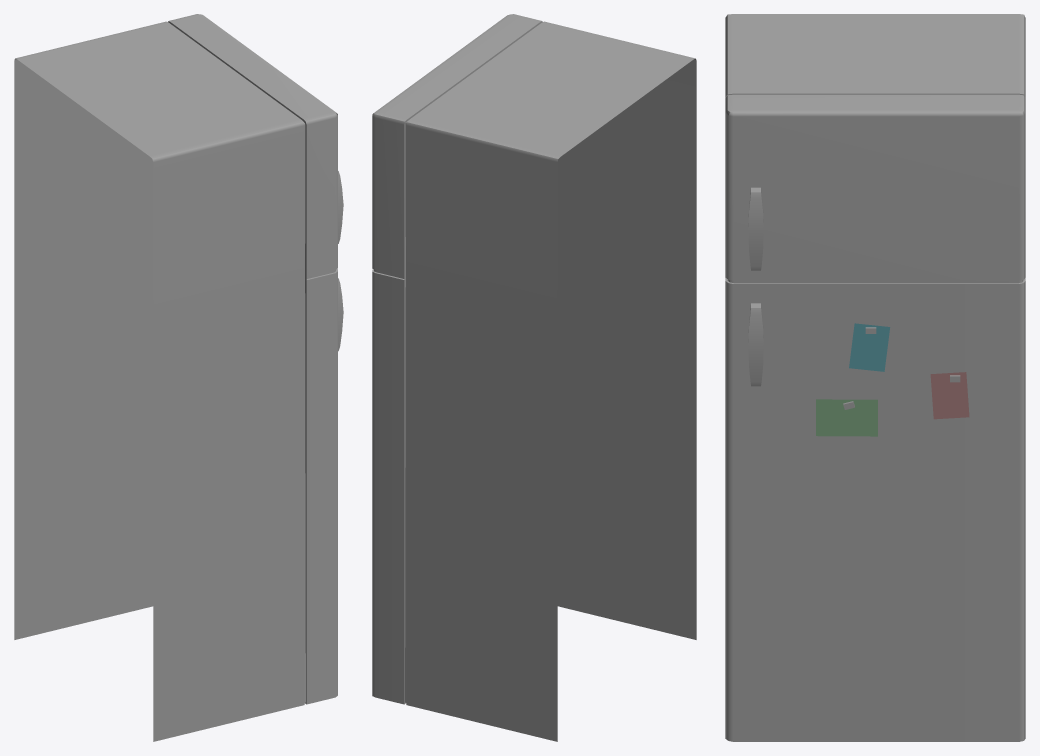
Rendered from Koelkast.fbx.
The picture shows the model from 3 angles, left to right: view 1: azimuth 30°, elevation 25°; view 2: azimuth 150°, elevation 25°; view 3: azimuth 270°, elevation 25°; orthographic projection. The views are drawn at different scales.
Parts seen in each view (by area): view 1: Koelkast1; view 2: Koelkast1; view 3: Koelkast1.
Part boxes in pixels (bbox=[...]): Koelkast1: bbox=[14, 14, 343, 741]; Koelkast1: bbox=[372, 14, 696, 741]; Koelkast1: bbox=[725, 14, 1025, 741].
Bounding box in the file's own units: 0.932 × 2.58 × 1.12.
